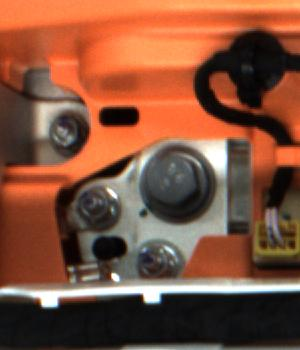nut_b: (134, 137, 217, 225)
screw_s: (45, 113, 85, 157), (74, 189, 117, 223), (138, 242, 173, 279)
